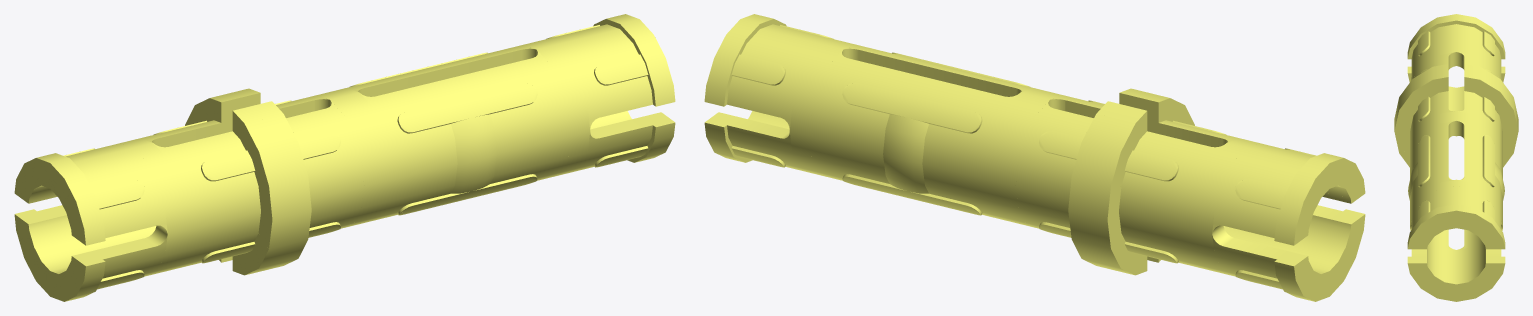
3 renders of one model, left to right at view 1: azimuth 30°, elevation 25°; view 2: azimuth 150°, elevation 25°; view 3: azimuth 270°, elevation 25°, orthographic. The views are drawn at different scales.
Parts seen in each view (by area): view 1: 6558.dat; view 2: 6558.dat; view 3: 6558.dat.
Boxes of the visible parts, <box> form: 6558.dat: <box>14,14,675,301</box>; 6558.dat: <box>704,14,1365,301</box>; 6558.dat: <box>1394,14,1518,301</box>.
Bounding box in the file's own units: 0.024 × 0.00624 × 0.0064.
